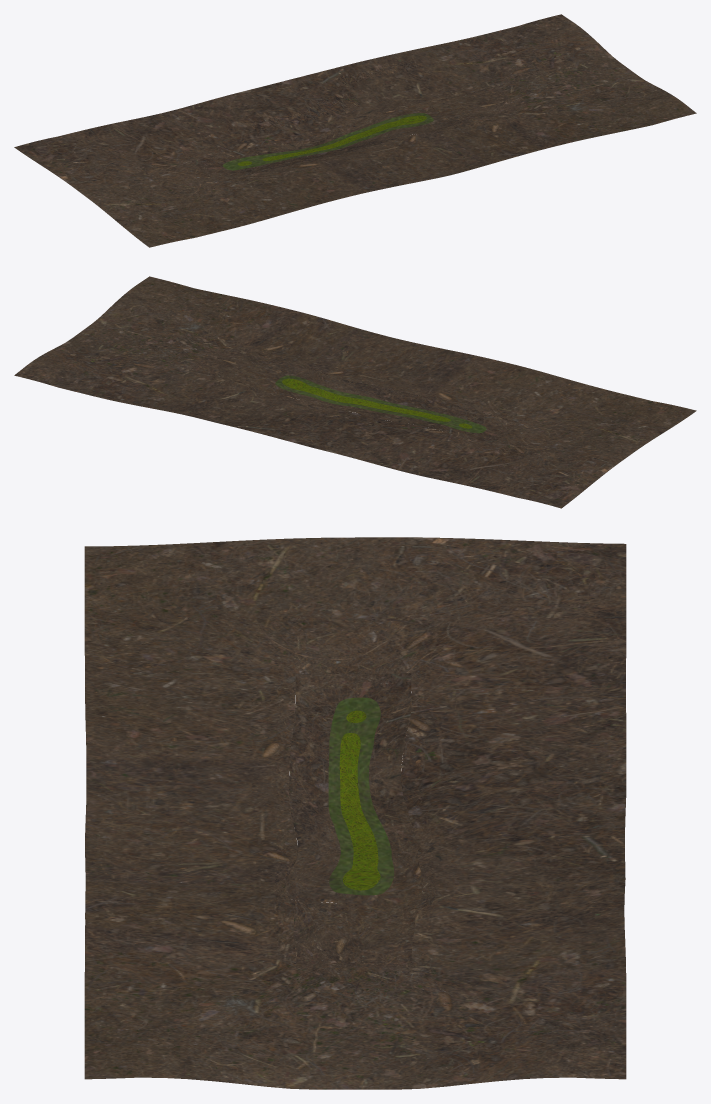
Rendered from hole1.obj.
3 views of the same model, one above another, from view 1: azimuth 30°, elevation 25°; view 2: azimuth 150°, elevation 25°; view 3: azimuth 270°, elevation 25° (orthographic). The views are drawn at different scales.
Visible parts, largest first — view 1: Hole1v2_Grid.003; view 2: Hole1v2_Grid.003; view 3: Hole1v2_Grid.003.
Boxes of the visible parts, <box> form: Hole1v2_Grid.003: <box>14,14,696,247</box>; Hole1v2_Grid.003: <box>14,276,696,508</box>; Hole1v2_Grid.003: <box>84,537,626,1089</box>.
Size of the model in its own units: 400 by 11.73 by 171.
4 materials, 4 textured.
